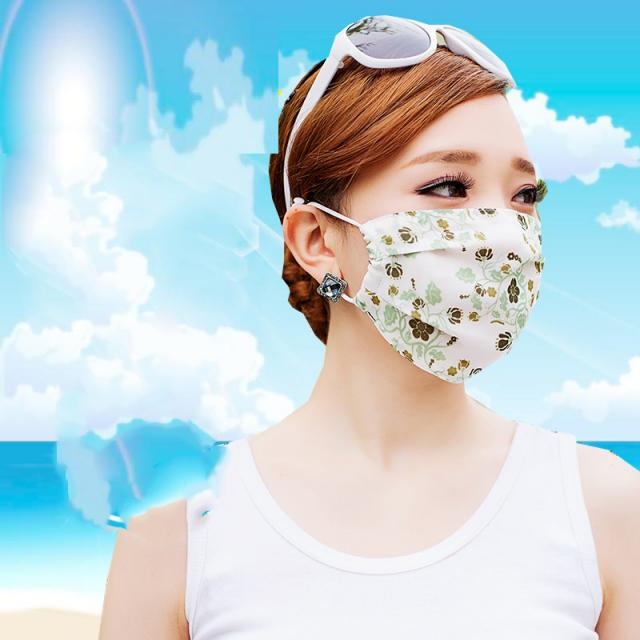mask: (338, 82, 545, 372)
